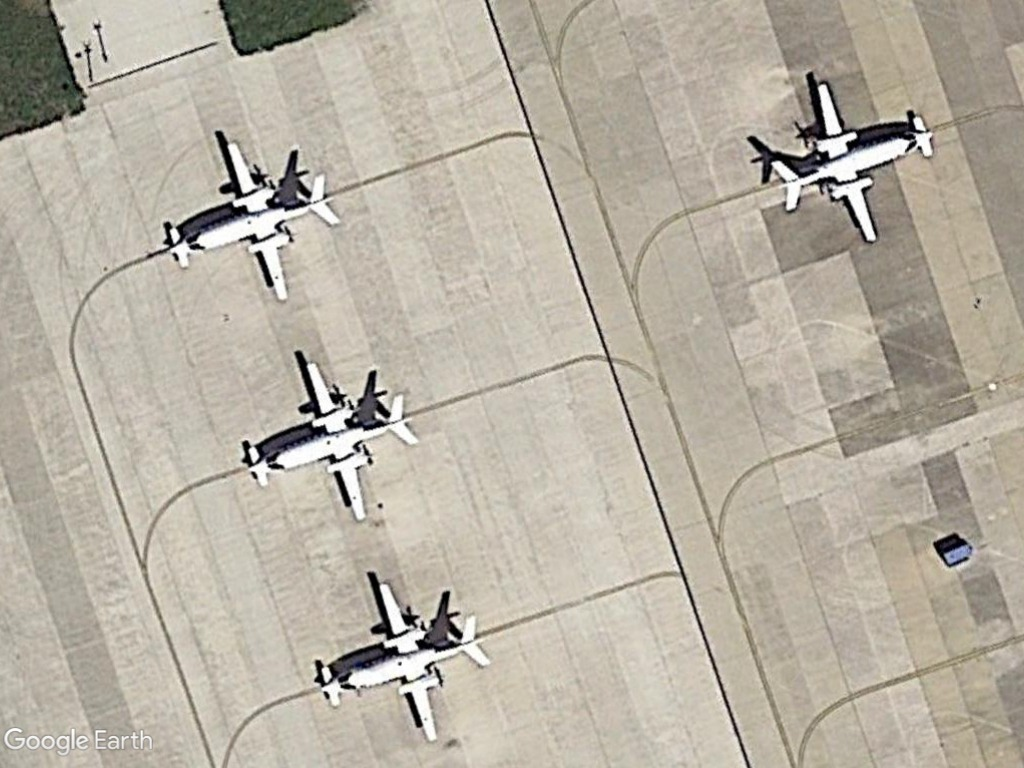trainer: (235, 362, 425, 527), (765, 81, 938, 246), (315, 584, 492, 745), (172, 145, 339, 305)
